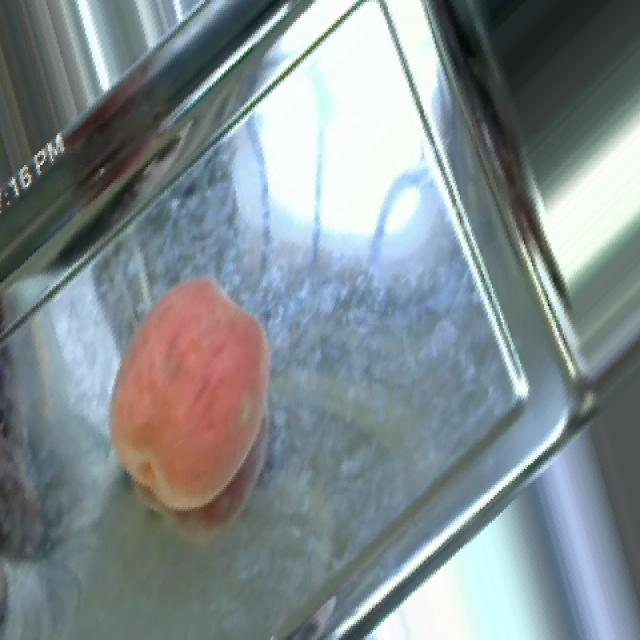Fruit: (91, 258, 288, 535)
